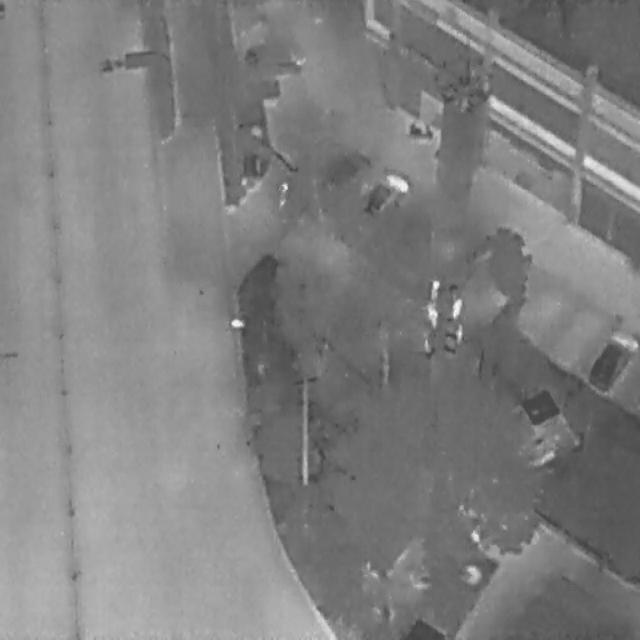Bicycle: (406, 116, 433, 140)
Car: (582, 321, 637, 400), (358, 160, 413, 231)
Person: (276, 180, 290, 210)
